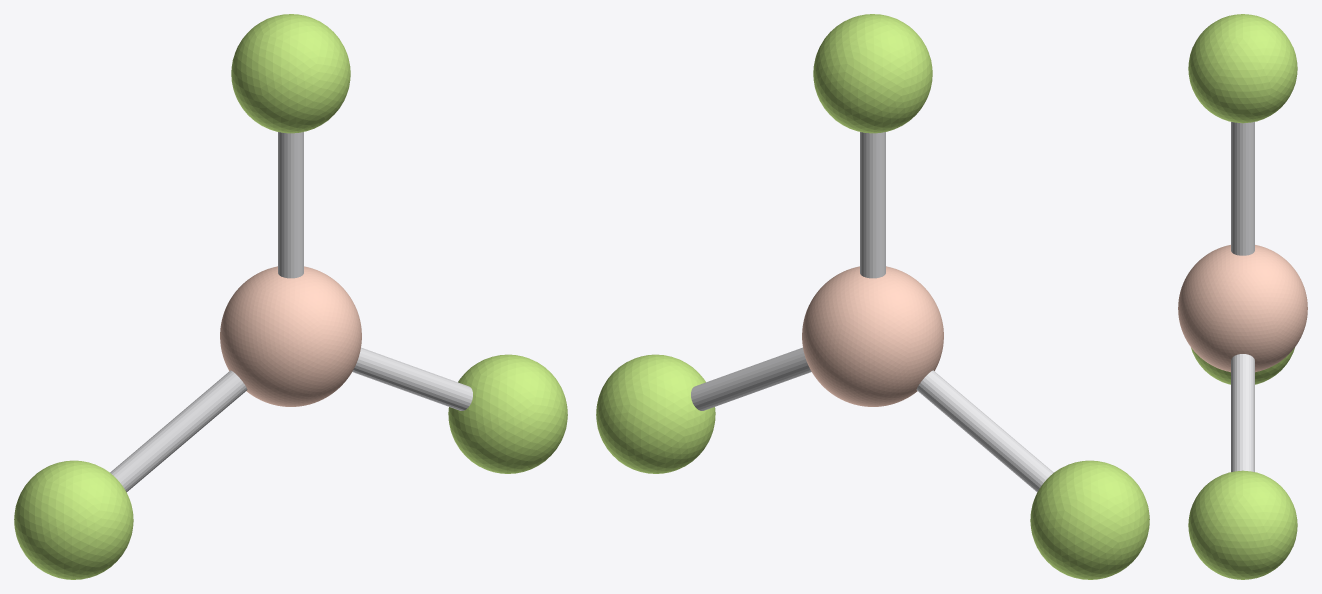
3 renders of one model, left to right at view 1: azimuth 30°, elevation 25°; view 2: azimuth 150°, elevation 25°; view 3: azimuth 270°, elevation 25°, orthographic. The views are drawn at different scales.
Parts seen in each view (by area): view 1: B_centre, F_0, F_1, F_2, bond_1, bond_0, bond_2; view 2: B_centre, F_0, F_1, F_2, bond_1, bond_0, bond_2; view 3: B_centre, F_0, F_2, bond_0, bond_2, F_1.
Part boxes in pixels (x1,y1,x2,y2): B_centre: (220, 266, 361, 406); F_0: (231, 14, 350, 133); F_1: (14, 460, 133, 579); F_2: (448, 354, 567, 473); bond_1: (110, 370, 247, 492); bond_0: (278, 132, 303, 278); bond_2: (352, 347, 472, 410); B_centre: (802, 266, 943, 406); F_0: (813, 14, 932, 133); F_1: (1030, 460, 1149, 579); F_2: (596, 354, 715, 473); bond_1: (916, 370, 1053, 492); bond_0: (860, 132, 885, 278); bond_2: (691, 347, 811, 410); B_centre: (1178, 245, 1307, 372); F_0: (1188, 14, 1297, 123); F_2: (1188, 470, 1297, 579); bond_0: (1231, 122, 1254, 255); bond_2: (1231, 354, 1254, 471); F_1: (1191, 348, 1294, 384).
Bounding box in the file's own units: 0.3325 × 0.2965 × 0.076.
